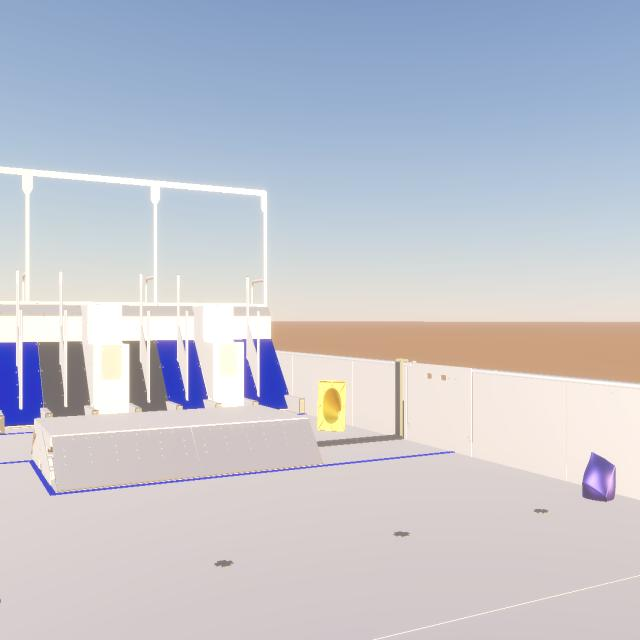frc_cone: (317, 381, 346, 432)
frc_cube: (582, 452, 616, 502)
